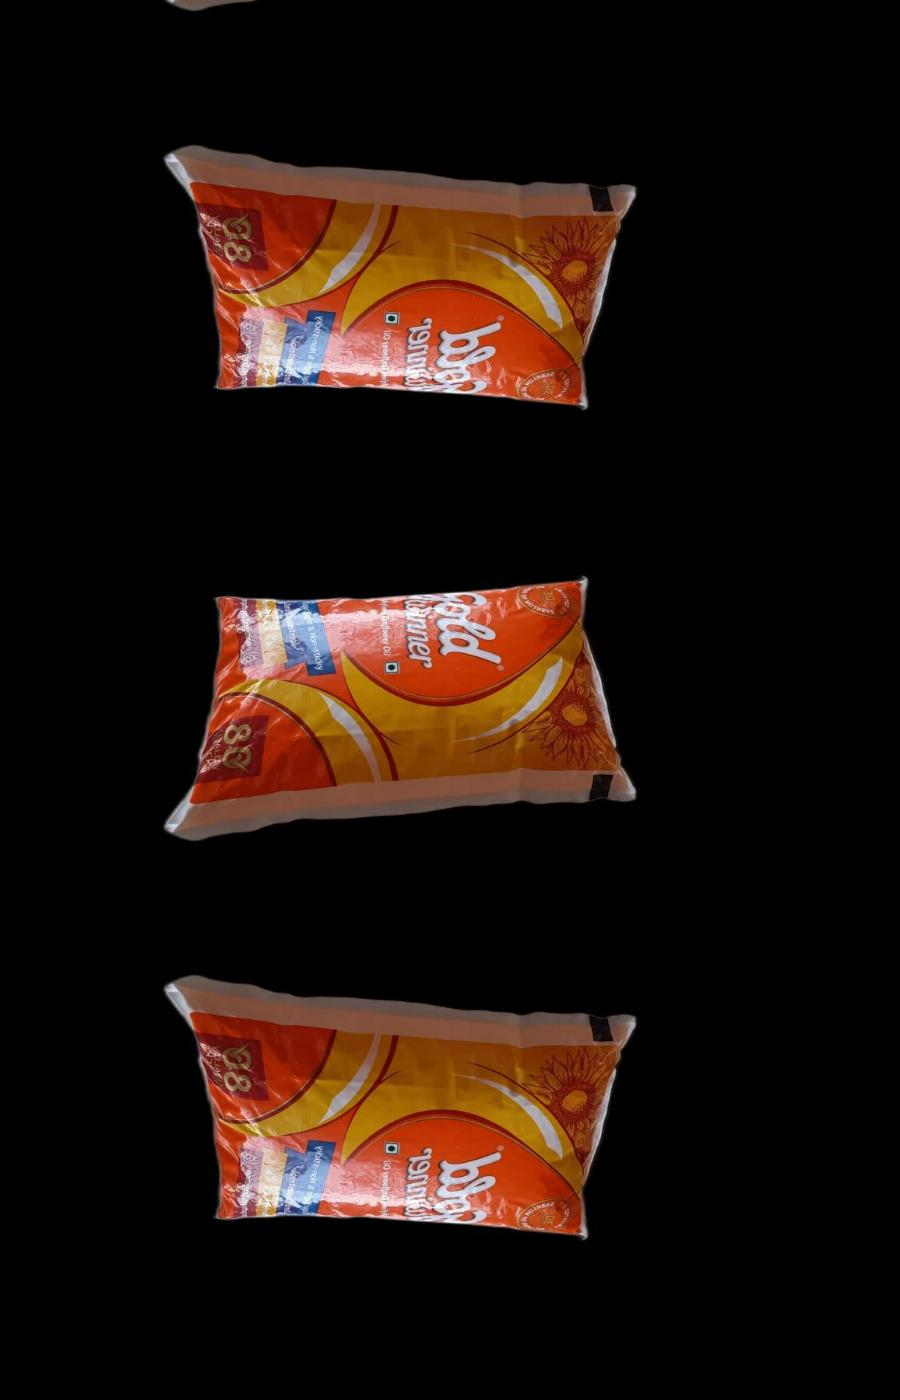Gold Oil: (163, 573, 643, 841), (163, 974, 643, 1242), (163, 144, 643, 410)
